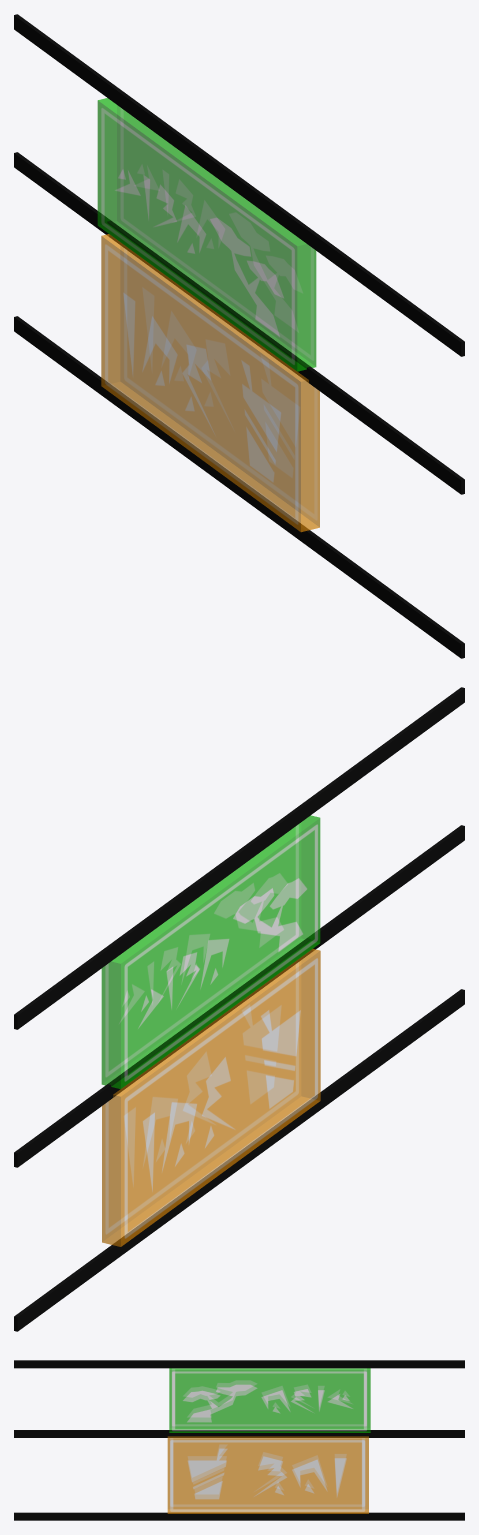
File: Cartelli.obj
The picture shows the model from 3 angles, top to bottom: view 1: azimuth 30°, elevation 25°; view 2: azimuth 150°, elevation 25°; view 3: azimuth 270°, elevation 25°; orthographic projection. The views are drawn at different scales.
Parts seen in each view (by area): view 1: Cube.075_Cube.415, Cube.080_Cube.427, Beam.020_Cube.428, Beam.016_Cube.416, Beam.015_Cube.413; view 2: Cube.075_Cube.415, Cube.080_Cube.427, Beam.020_Cube.428, Beam.016_Cube.416, Beam.015_Cube.413; view 3: Cube.075_Cube.415, Cube.080_Cube.427, Beam.020_Cube.428, Beam.015_Cube.413, Beam.016_Cube.416.
Boxes of the visible parts, x1=… form: Cube.075_Cube.415: x1=101, y1=234, x2=319, y2=532; Cube.080_Cube.427: x1=97, y1=98, x2=316, y2=371; Beam.020_Cube.428: x1=14, y1=14, x2=464, y2=356; Beam.016_Cube.416: x1=14, y1=152, x2=464, y2=494; Beam.015_Cube.413: x1=14, y1=316, x2=464, y2=658; Cube.075_Cube.415: x1=102, y1=949, x2=320, y2=1246; Cube.080_Cube.427: x1=101, y1=815, x2=320, y2=1089; Beam.020_Cube.428: x1=14, y1=687, x2=464, y2=1029; Beam.016_Cube.416: x1=14, y1=825, x2=464, y2=1167; Beam.015_Cube.413: x1=14, y1=989, x2=464, y2=1331; Cube.075_Cube.415: x1=167, y1=1436, x2=368, y2=1513; Cube.080_Cube.427: x1=169, y1=1368, x2=370, y2=1432; Beam.020_Cube.428: x1=14, y1=1360, x2=464, y2=1368; Beam.015_Cube.413: x1=14, y1=1512, x2=464, y2=1520; Beam.016_Cube.416: x1=14, y1=1430, x2=464, y2=1437.
Bounding box in the file's own units: 0.2781 × 4.03 × 10.33.
Materials: 3 (2 with a texture image).
